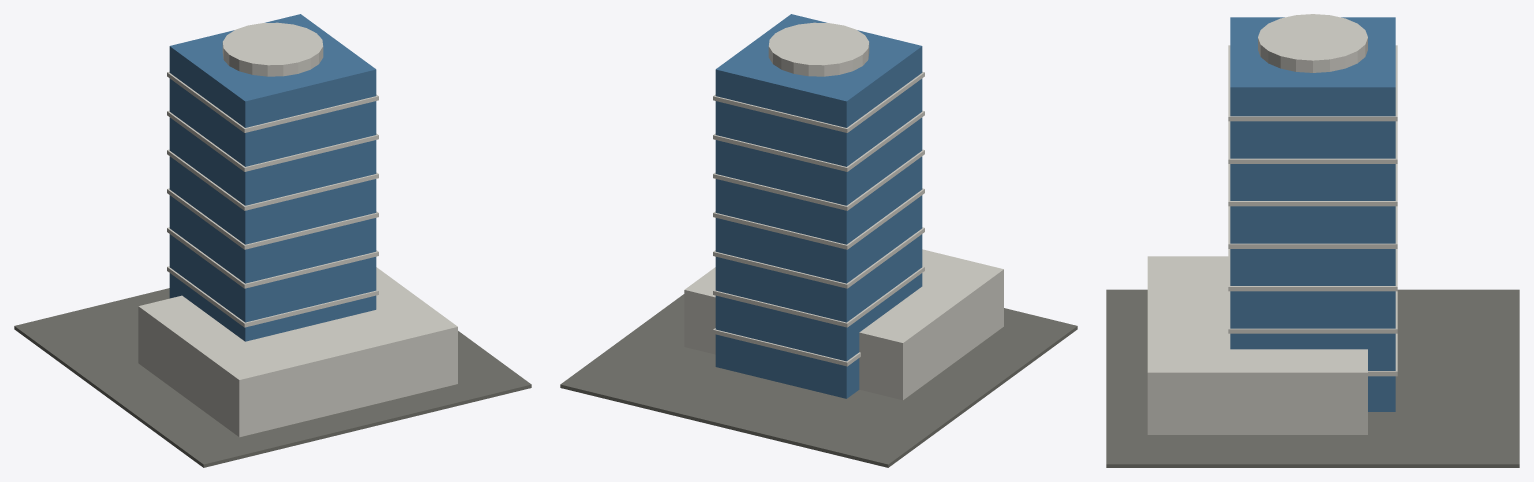
Rendered from lab_civ.glb.
The picture shows the model from 3 angles, left to right: view 1: azimuth 30°, elevation 25°; view 2: azimuth 150°, elevation 25°; view 3: azimuth 270°, elevation 25°; orthographic projection. The views are drawn at different scales.
Visible parts, largest first — view 1: lab_civ; view 2: lab_civ; view 3: lab_civ.
Part boxes in pixels (x1,y1,x2,y2): lab_civ: (14,14,531,467); lab_civ: (560,14,1077,467); lab_civ: (1106,14,1519,467).
Size of the model in its own units: 30 by 27.5 by 30.
